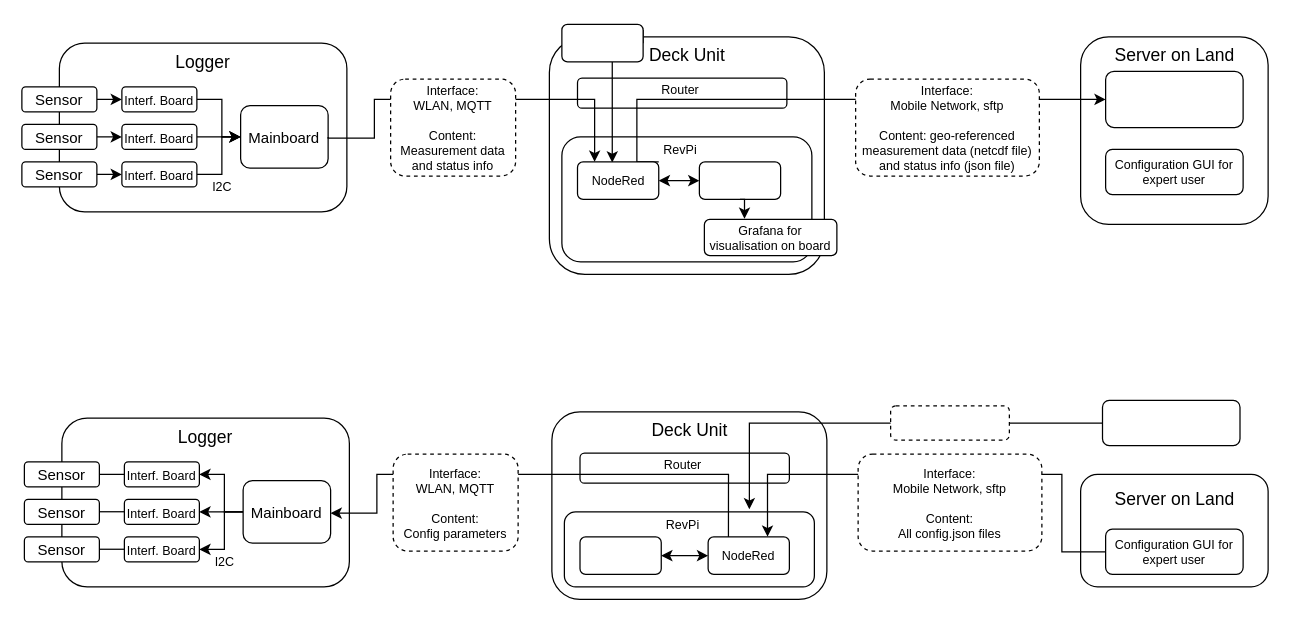
Image size: 1290x621. Some labels were removed from this diagram. Here are the shapes that lost their labels. From the top down, the centre of each, then its label:
At point (602, 42): "GPS Antenna".
At point (1173, 99): "Data management s. separate diagram".
At point (739, 180): "Internal DB".
At point (949, 422): "VPN".
At point (1170, 422): "Exper User".
At point (620, 555): "Internal file system".
